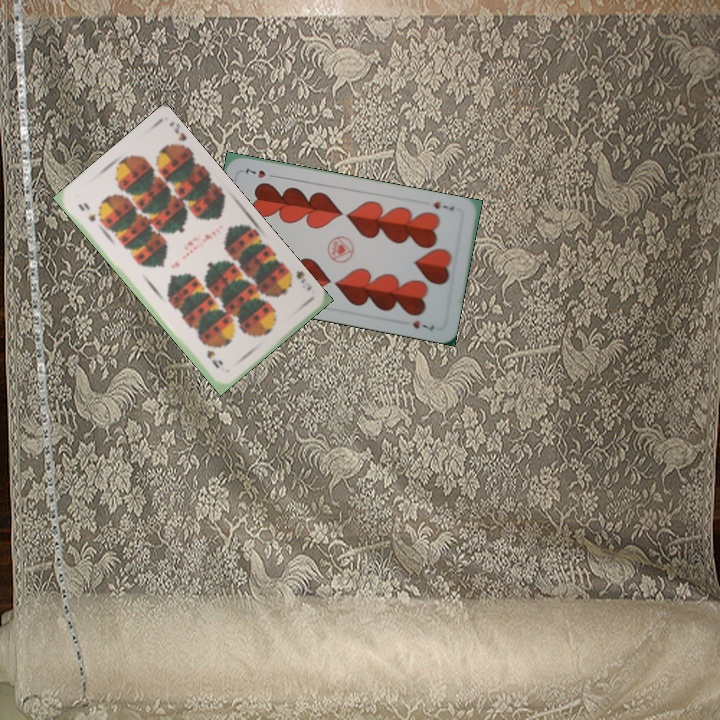H7: (430, 197, 457, 213)
S9: (281, 265, 314, 293), (74, 200, 98, 225)
